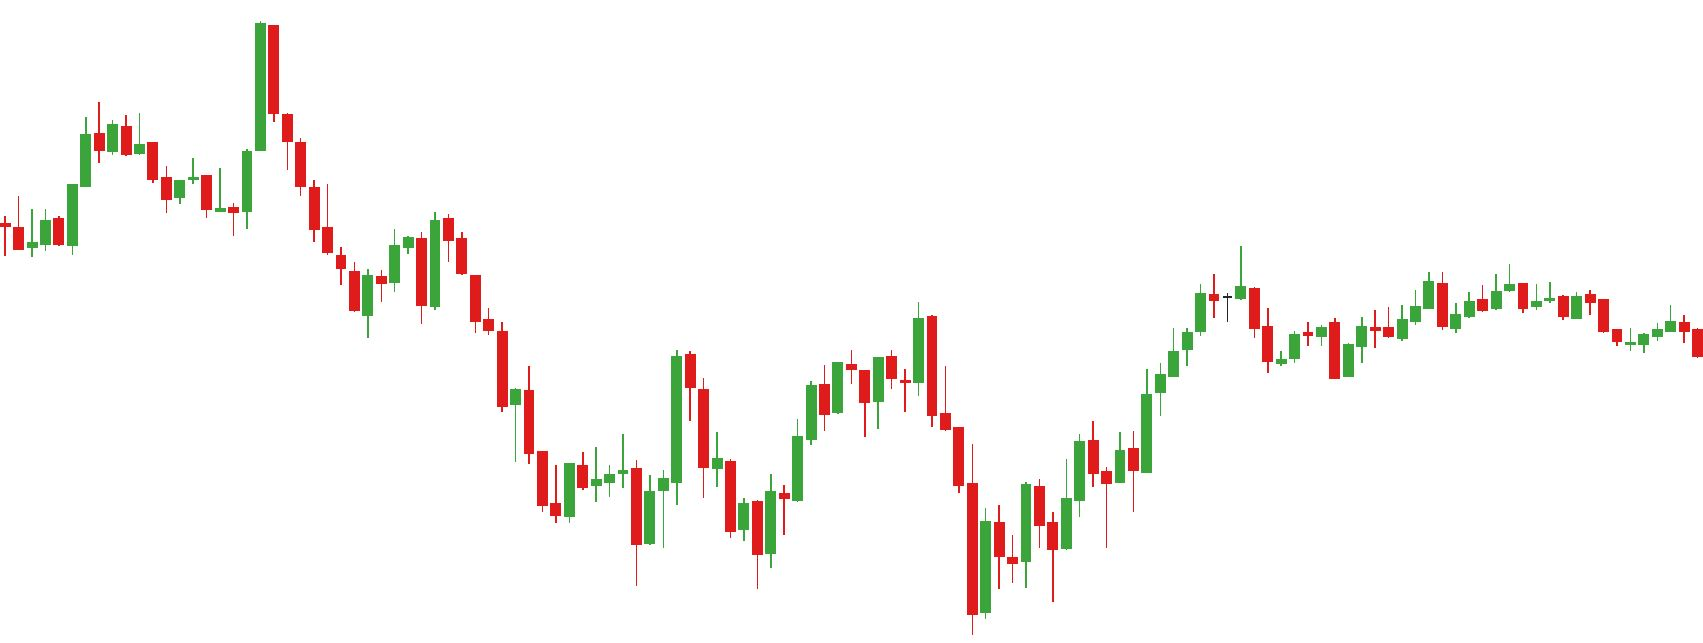buy: (750, 434, 992, 635)
sell: (81, 23, 280, 179), (519, 350, 696, 454)
